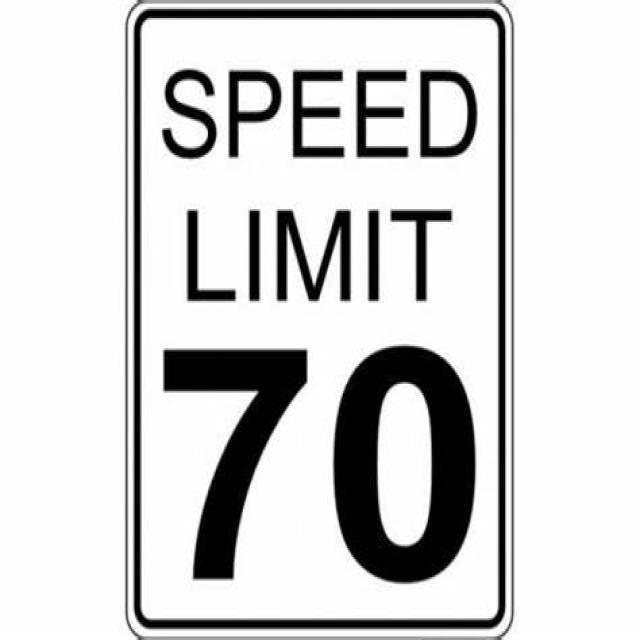speedLimit70: (123, 13, 518, 629)
